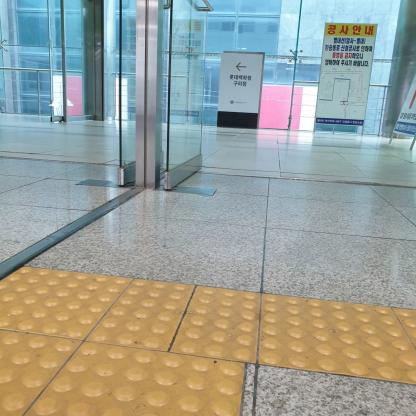stop: (22, 341, 249, 414), (259, 293, 415, 384), (1, 265, 133, 341)
